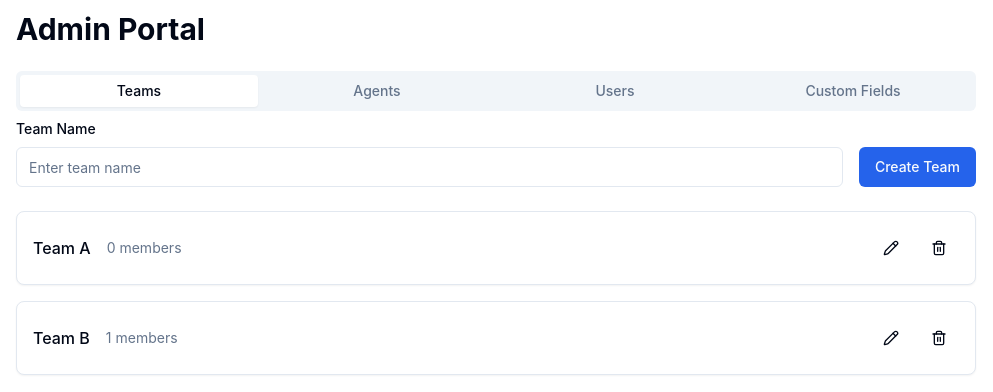
Test: AdminPortal › allows editing a team name
Click the button titled "Edit team" in the row of "Team A" at (891, 248), box 871,228 -> 911,268
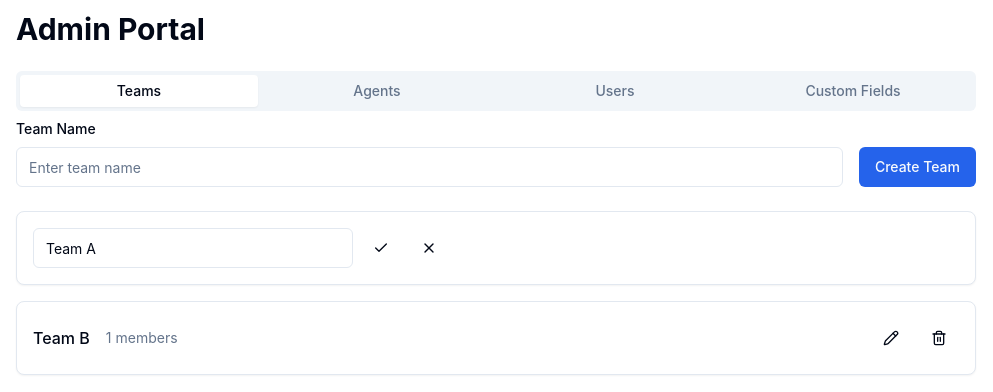
Replace the text in the field showing "Team A" with "Updated Team" at (193, 248), box 33,228 -> 353,268
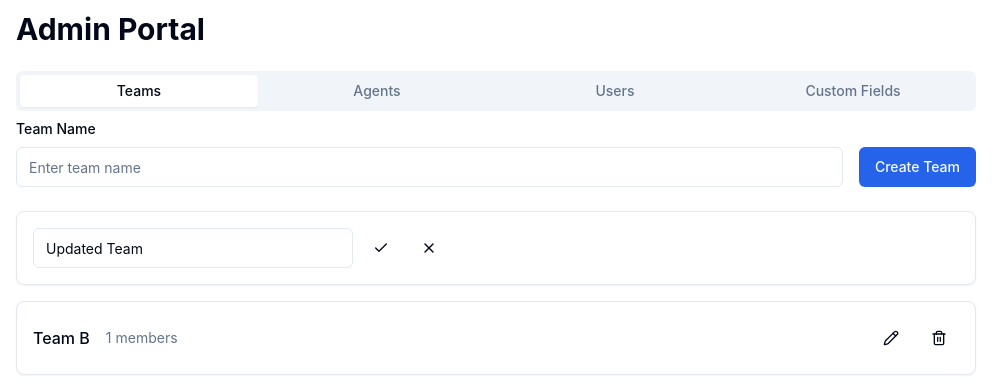
Click the button titled "Save" at (381, 248), box 361,228 -> 401,268
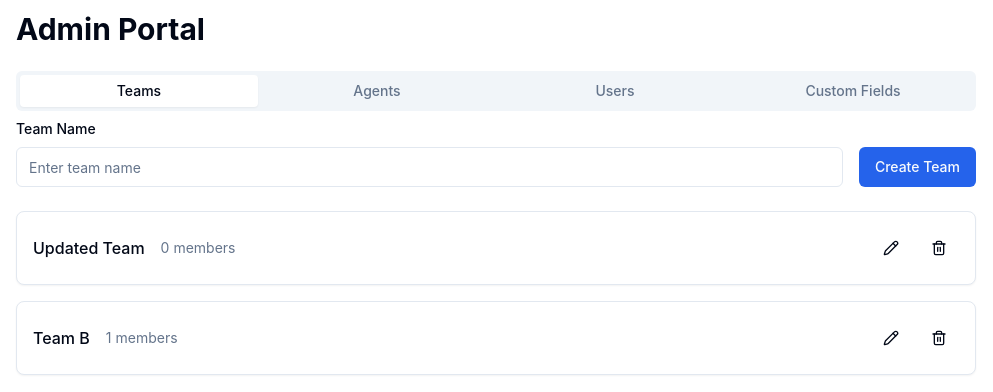
Expected: the heading "Updated Team" is shown, 33,236 -> 145,260
